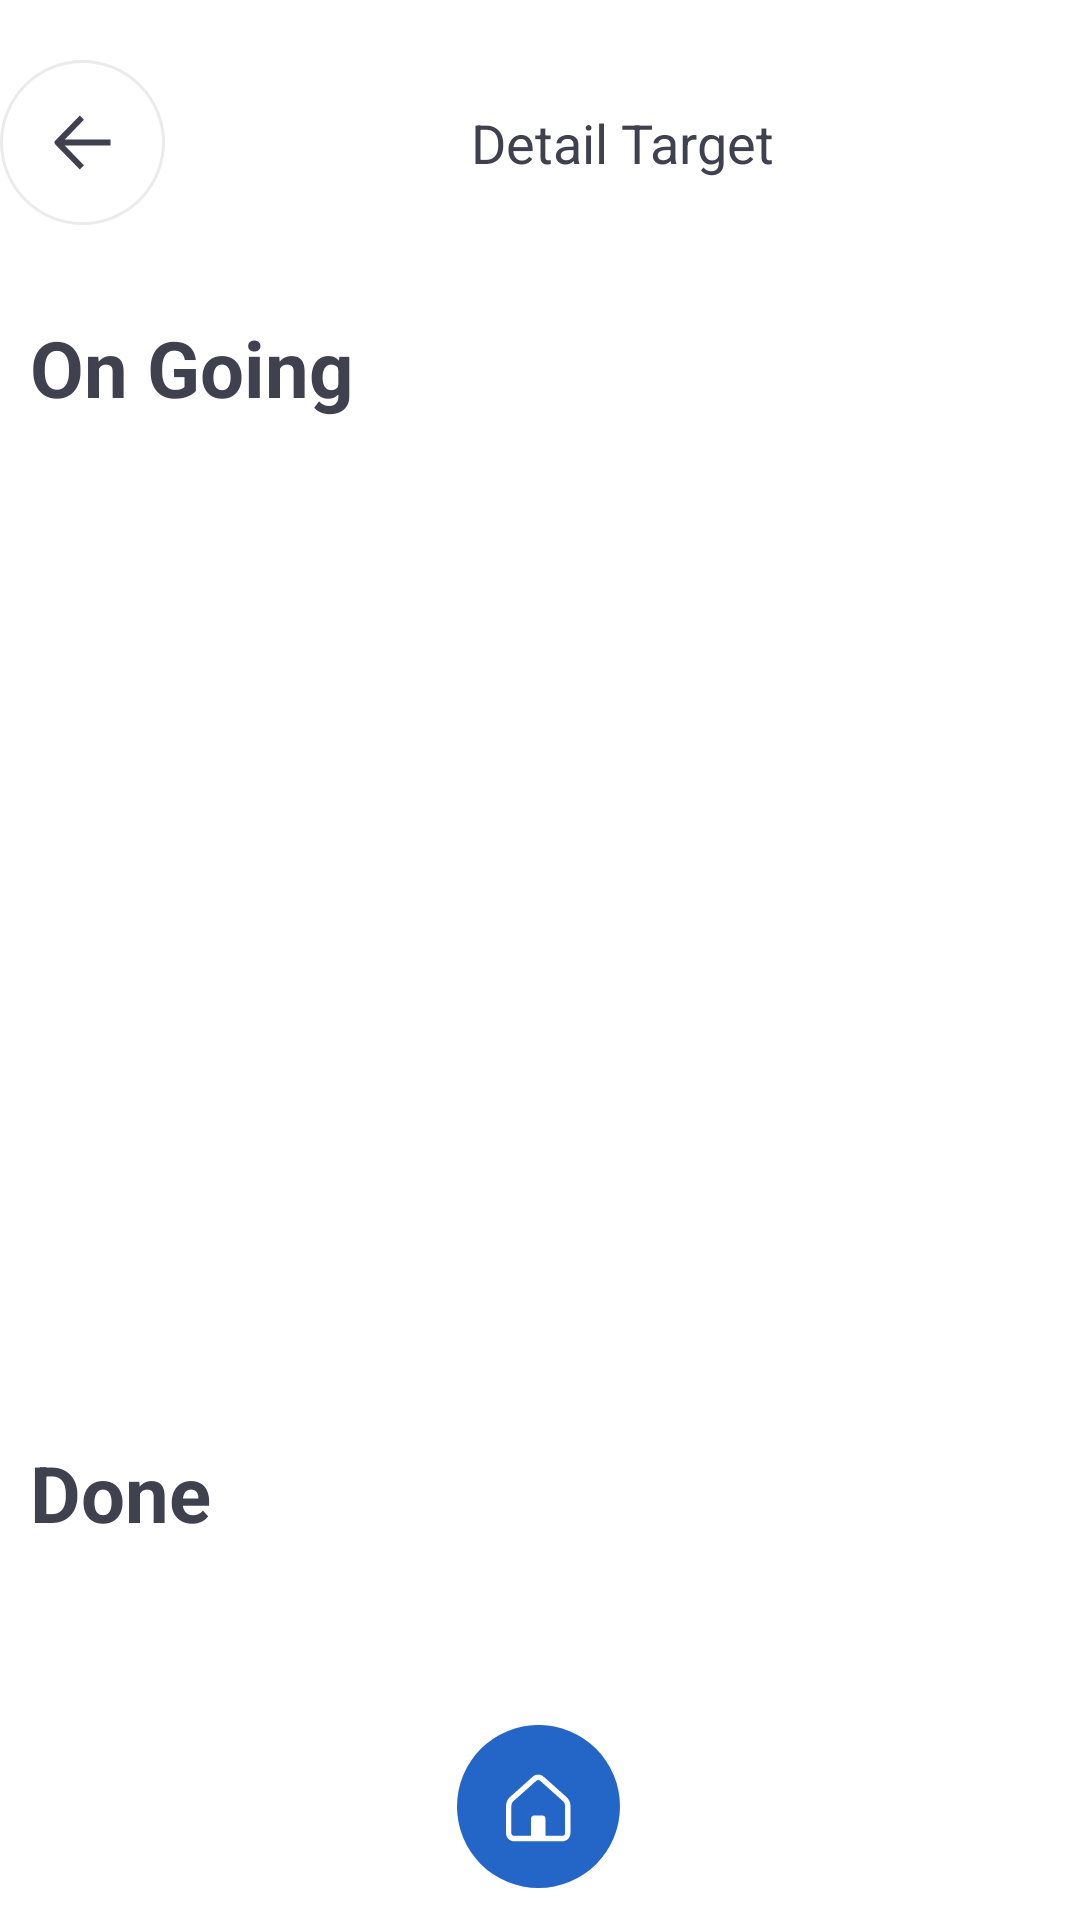

Icons on this 1080px×1920px Android screen, each with its box as (x1, y1, x2, y2):
back: (54, 115, 111, 170)
home: (457, 1725, 620, 1888)
